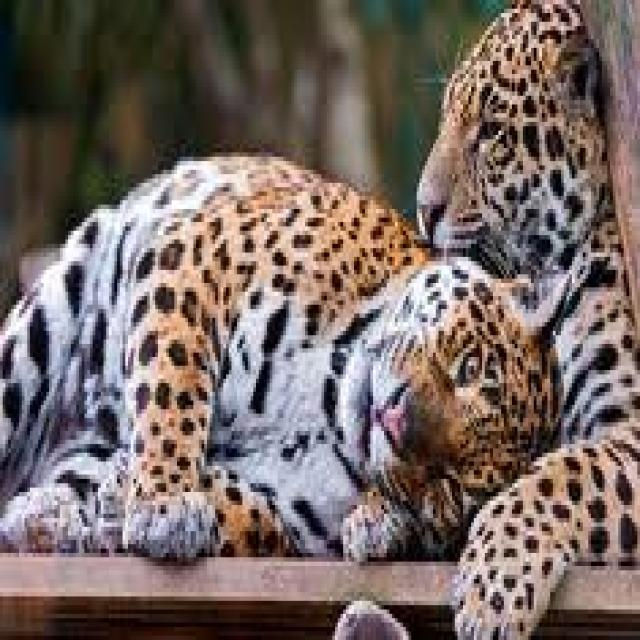Jaguar: (11, 148, 536, 570), (414, 4, 640, 636)
